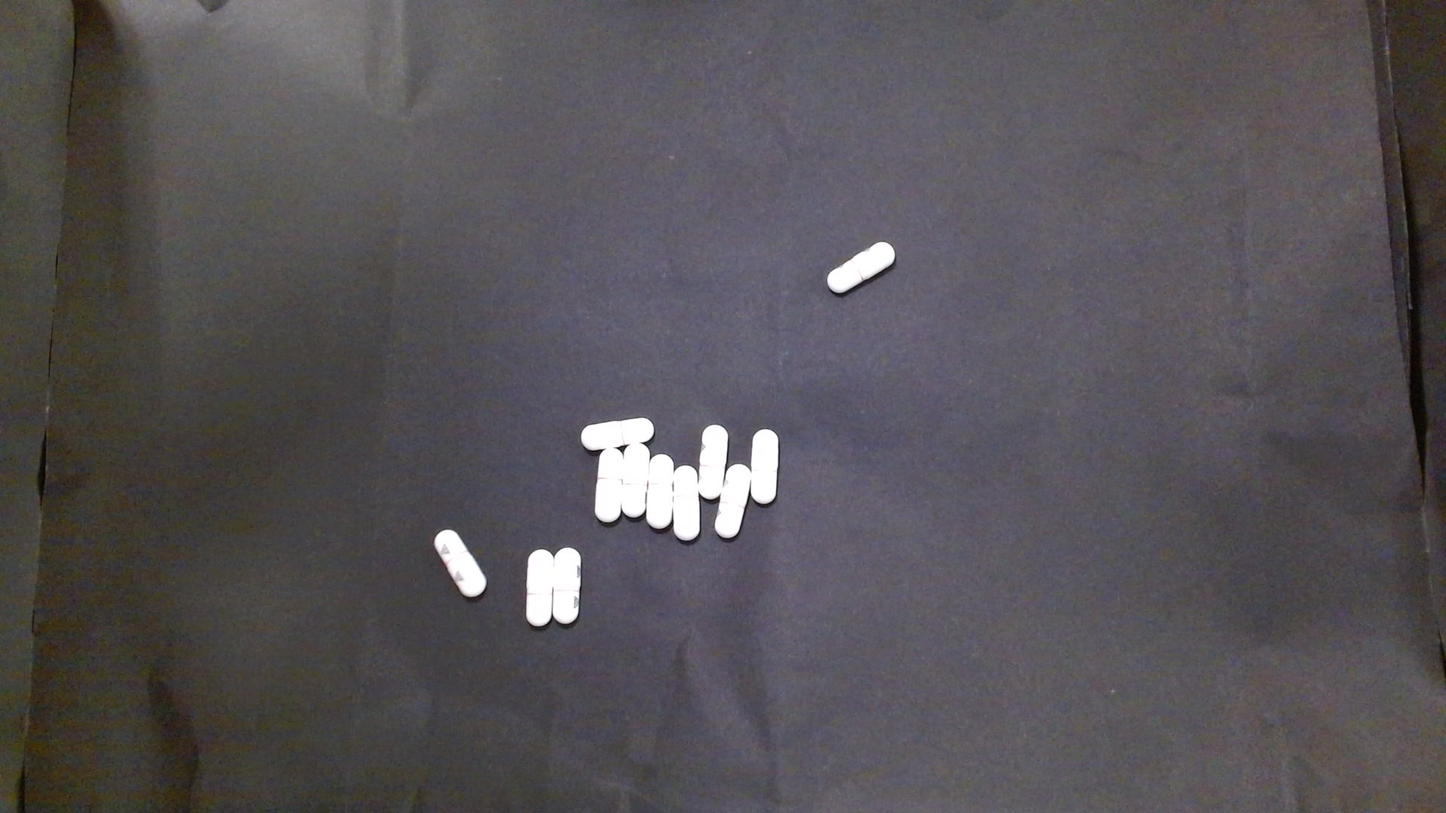Capsule: (825, 240, 898, 294), (435, 530, 487, 598), (715, 463, 751, 538), (594, 443, 626, 522), (581, 417, 653, 451), (697, 424, 728, 499), (750, 427, 779, 504), (552, 547, 581, 623), (526, 548, 554, 626), (620, 442, 648, 517), (672, 465, 700, 540), (646, 455, 673, 528)
